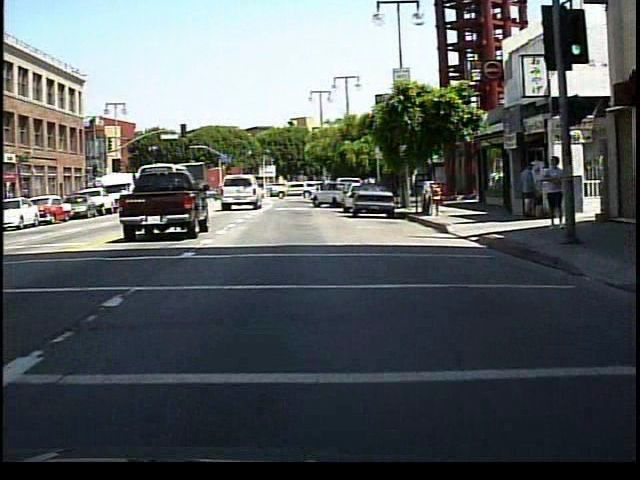person: (538, 155, 565, 232), (517, 160, 533, 223)
